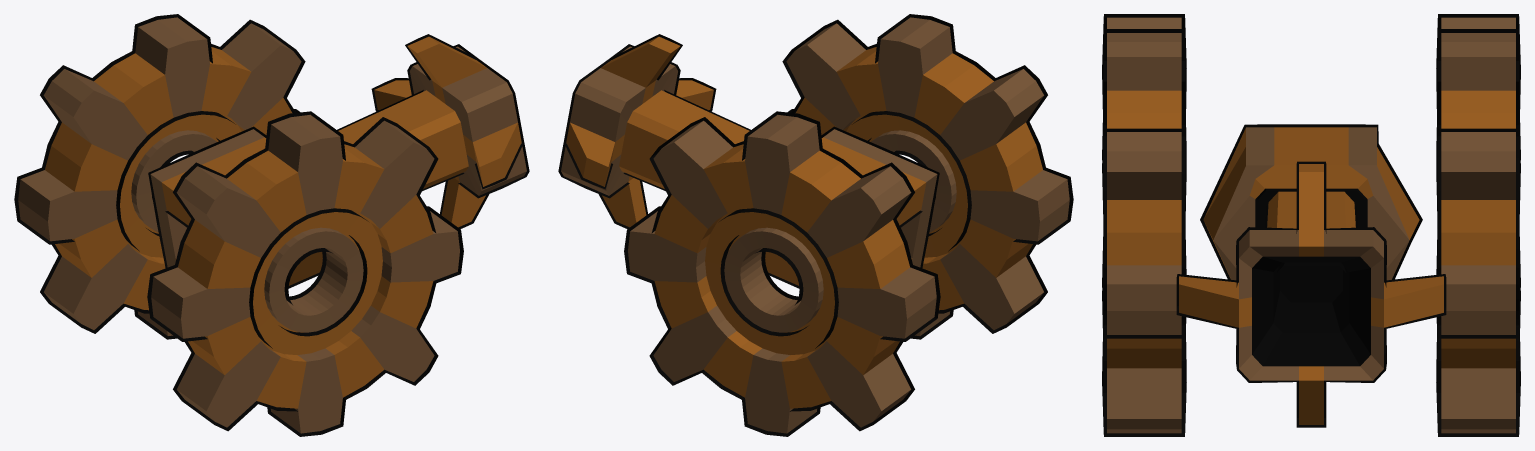
File: Big_Tower.fbx
The picture shows the model from 3 angles, left to right: view 1: azimuth 30°, elevation 25°; view 2: azimuth 150°, elevation 25°; view 3: azimuth 270°, elevation 25°; orthographic projection. The views are drawn at different scales.
Visible parts, largest first — view 1: Cylinder, Cube; view 2: Cylinder, Cube; view 3: Cylinder, Cube.
Boxes of the visible parts, <box> form: Cylinder: <box>14,14,463,436</box>; Cube: <box>148,34,529,288</box>; Cylinder: <box>624,14,1073,436</box>; Cube: <box>558,34,939,288</box>; Cylinder: <box>1102,14,1520,436</box>; Cube: <box>1176,124,1446,427</box>.
Size of the model in its own units: 251 by 351 by 247.
